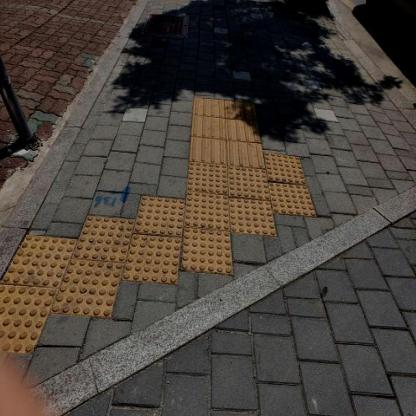podotacti: (187, 96, 262, 161)
